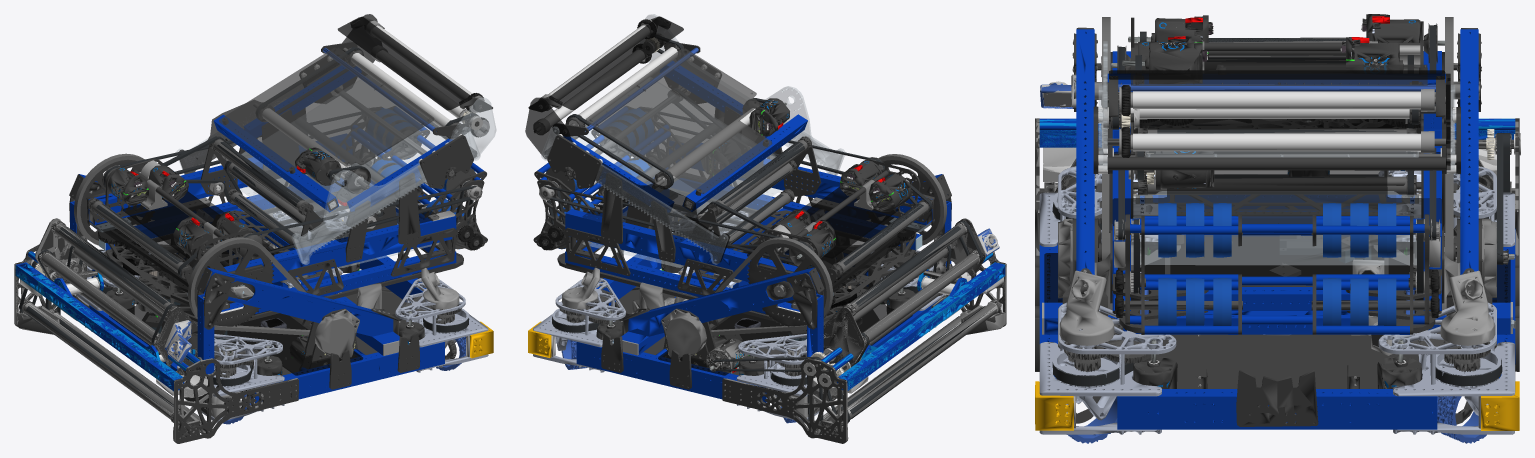
Rendered from presto-6328.glb.
The picture shows the model from 3 angles, left to right: view 1: azimuth 30°, elevation 25°; view 2: azimuth 150°, elevation 25°; view 3: azimuth 270°, elevation 25°; orthographic projection. The views are drawn at different scales.
Visible parts, largest first — view 1: frame, backpack-slide, intake, arm, backpack, feeder, shooter, climber; view 2: frame, backpack-slide, intake, arm, backpack, feeder, shooter, climber; view 3: frame, backpack-slide, arm, shooter, feeder, backpack, intake, climber.
Part boxes in pixels (<box>): frame: <box>60,153,493,424</box>; backpack-slide: <box>176,14,496,264</box>; intake: <box>14,218,298,443</box>; arm: <box>80,134,463,326</box>; backpack: <box>213,47,488,262</box>; feeder: <box>87,112,476,284</box>; shooter: <box>336,106,487,250</box>; climber: <box>219,208,334,326</box>; frame: <box>528,154,961,423</box>; backpack-slide: <box>525,14,844,264</box>; intake: <box>706,218,1006,443</box>; arm: <box>557,141,940,326</box>; backpack: <box>535,19,807,262</box>; feeder: <box>544,112,933,285</box>; shooter: <box>533,106,689,250</box>; climber: <box>686,208,792,326</box>; frame: <box>1035,17,1519,443</box>; backpack-slide: <box>1098,41,1455,170</box>; arm: <box>1074,51,1480,333</box>; shooter: <box>1114,203,1440,334</box>; feeder: <box>1111,14,1444,240</box>; backpack: <box>1093,40,1460,232</box>; intake: <box>1035,56,1520,264</box>; climber: <box>1135,194,1418,258</box>.
Bounding box in the file's own units: 0.8395 × 0.5895 × 0.6747.
